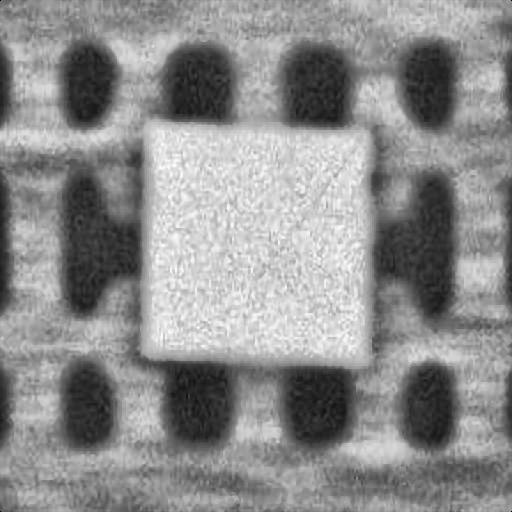DIE_CRACK: (374, 92, 512, 190)
